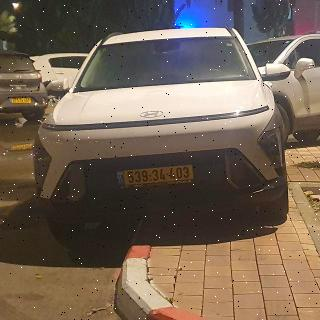LicensePlate: (123, 163, 194, 185)
